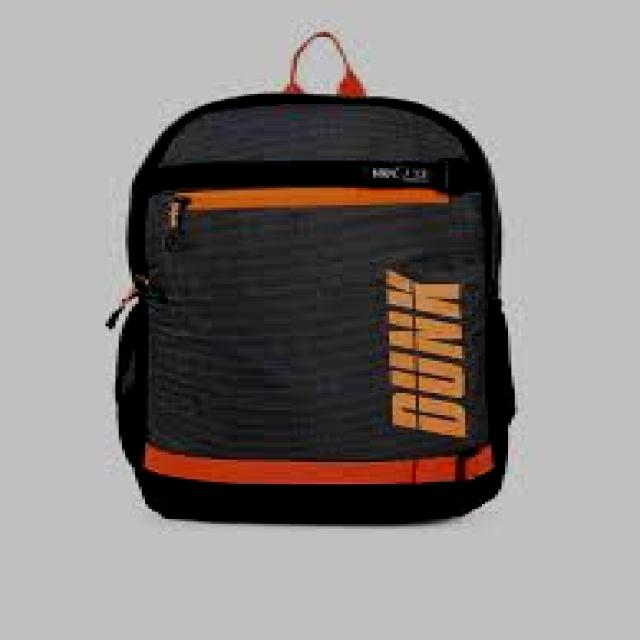backpack: (107, 31, 516, 525)
